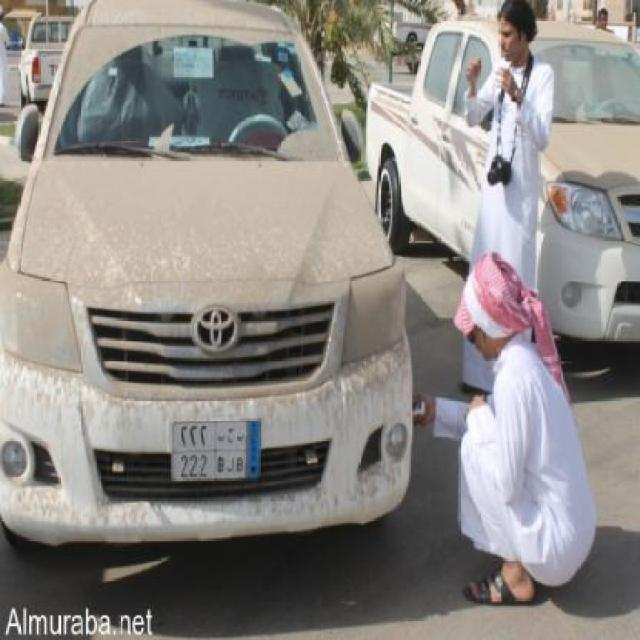license_plate: (170, 418, 262, 484)
